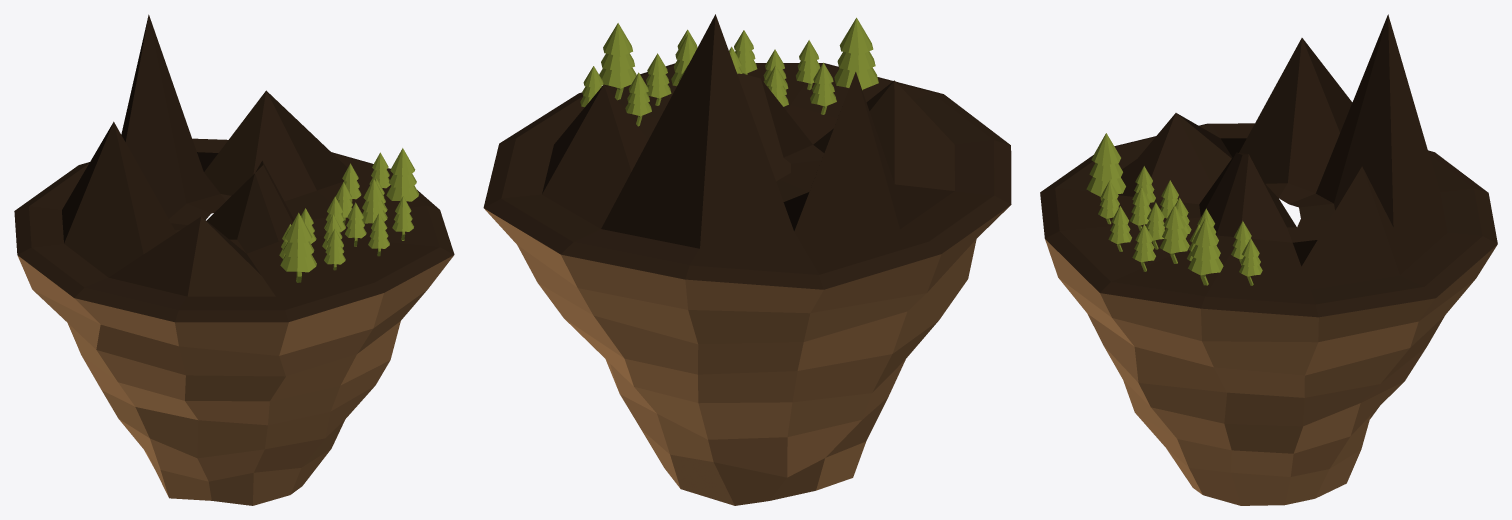
File: plasticIsland.glb
The picture shows the model from 3 angles, left to right: view 1: azimuth 30°, elevation 25°; view 2: azimuth 150°, elevation 25°; view 3: azimuth 270°, elevation 25°; orthographic projection. The views are drawn at different scales.
Parts seen in each view (by area): view 1: Mountains, Floating island, tree.014, tree.015, tree.001, tree.007, tree.005, tree.008, tree.009; view 2: Mountains, Floating island, tree.014, tree.015, tree.002, tree.004, tree.013, tree.009, tree.008, tree.001; view 3: Mountains, Floating island, tree.014, tree.015, tree.001, tree.007, tree.003, tree.008, tree.009, tree.010, tree.005.
Boxes of the visible parts, box(x1,y1,x2,y2) form: Mountains: box(14, 14, 454, 322); Floating island: box(17, 255, 453, 505); tree.014: box(280, 212, 316, 282); tree.015: box(386, 148, 418, 201); tree.001: box(362, 179, 387, 231); tree.007: box(392, 196, 413, 240); tree.005: box(345, 202, 366, 246); tree.008: box(368, 213, 389, 256); tree.009: box(324, 229, 345, 270); Mountains: box(483, 14, 1011, 289); Floating island: box(484, 205, 1010, 505); tree.014: box(834, 17, 878, 90); tree.015: box(599, 23, 636, 100); tree.002: box(646, 53, 671, 105); tree.004: box(625, 72, 651, 126); tree.013: box(810, 62, 836, 114); tree.009: box(796, 40, 820, 89); tree.008: box(734, 30, 757, 74); tree.001: box(671, 34, 696, 86); Mountains: box(1040, 14, 1497, 317); Floating island: box(1045, 239, 1496, 505); tree.014: box(1086, 133, 1125, 200); tree.015: box(1188, 218, 1223, 285); tree.001: box(1159, 205, 1189, 263); tree.007: box(1132, 224, 1155, 271); tree.003: box(1239, 238, 1262, 285); tree.008: box(1108, 206, 1131, 251); tree.009: box(1098, 180, 1119, 224); tree.010: box(1130, 187, 1150, 230); tree.005: box(1146, 202, 1165, 249).
Size of what is drawn, in the model's own units: 284 by 311 by 286.
